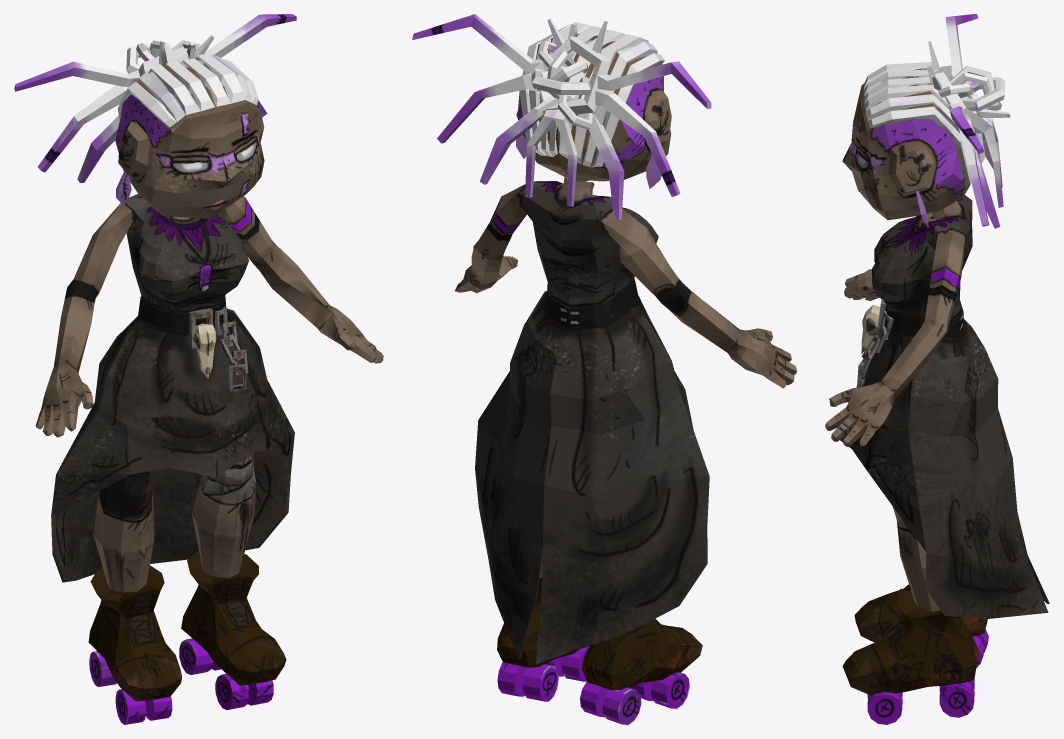
File: bruja_000164.obj
The picture shows the model from 3 angles, left to right: view 1: azimuth 30°, elevation 25°; view 2: azimuth 150°, elevation 25°; view 3: azimuth 270°, elevation 25°; orthographic projection. The views are drawn at different scales.
Visible parts, largest first — view 1: Bruja_Plane.001; view 2: Bruja_Plane.001; view 3: Bruja_Plane.001.
Part boxes in pixels (x1,y1,x2,y2): Bruja_Plane.001: (14, 14, 383, 724); Bruja_Plane.001: (412, 14, 796, 724); Bruja_Plane.001: (825, 14, 1049, 724).
Size of the model in its own units: 8.65 by 16.66 by 5.26.
